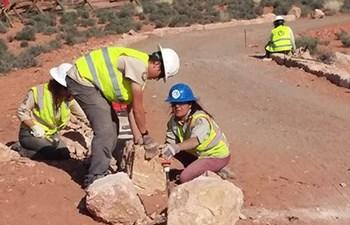helmet: (166, 82, 200, 106), (159, 44, 181, 81), (51, 64, 77, 89), (275, 16, 286, 24)
